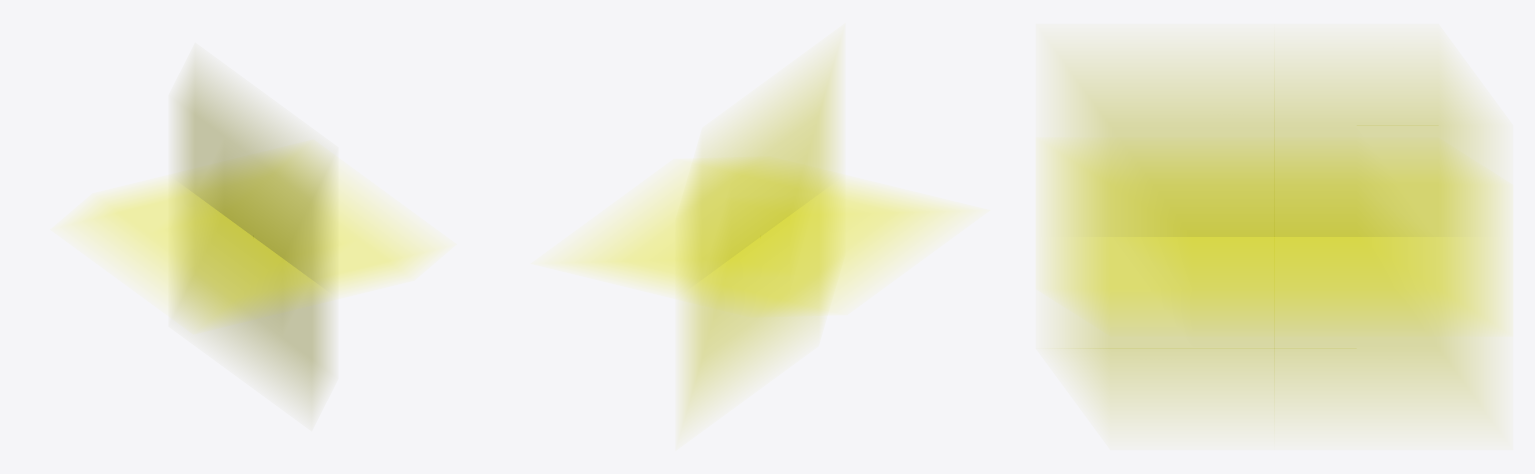
The picture shows the model from 3 angles, left to right: view 1: azimuth 30°, elevation 25°; view 2: azimuth 150°, elevation 25°; view 3: azimuth 270°, elevation 25°; orthographic projection. The views are drawn at different scales.
Parts seen in each view (by area): view 1: shizimianpian; view 2: shizimianpian; view 3: shizimianpian.
Boxes of the visible parts, left/top/right/bottom form: shizimianpian: left=76, top=70, right=430, bottom=403; shizimianpian: left=567, top=58, right=953, bottom=415; shizimianpian: left=1047, top=51, right=1501, bottom=422.
Size of the model in its own units: 1 by 1 by 1.
1 material, 1 textured.
